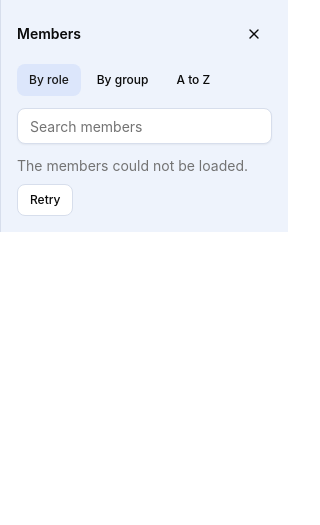
it: MembersPanel, inline from lg › shows an error and retries
The width and height of the screenshot is (320, 525).
Expected: the text "The members could not be loaded." is shown, [17, 156, 248, 176]
Click the button "Retry". click: (45, 200)
box: [17, 184, 74, 216]
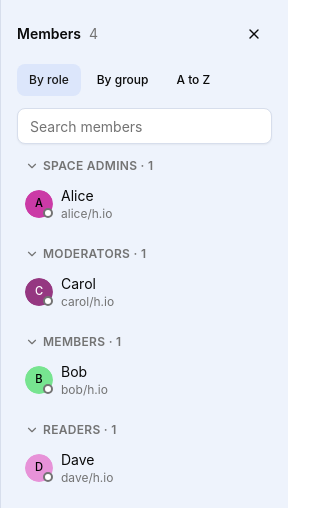
Expected: the text "Alice" is shown, [61, 187, 94, 204]
